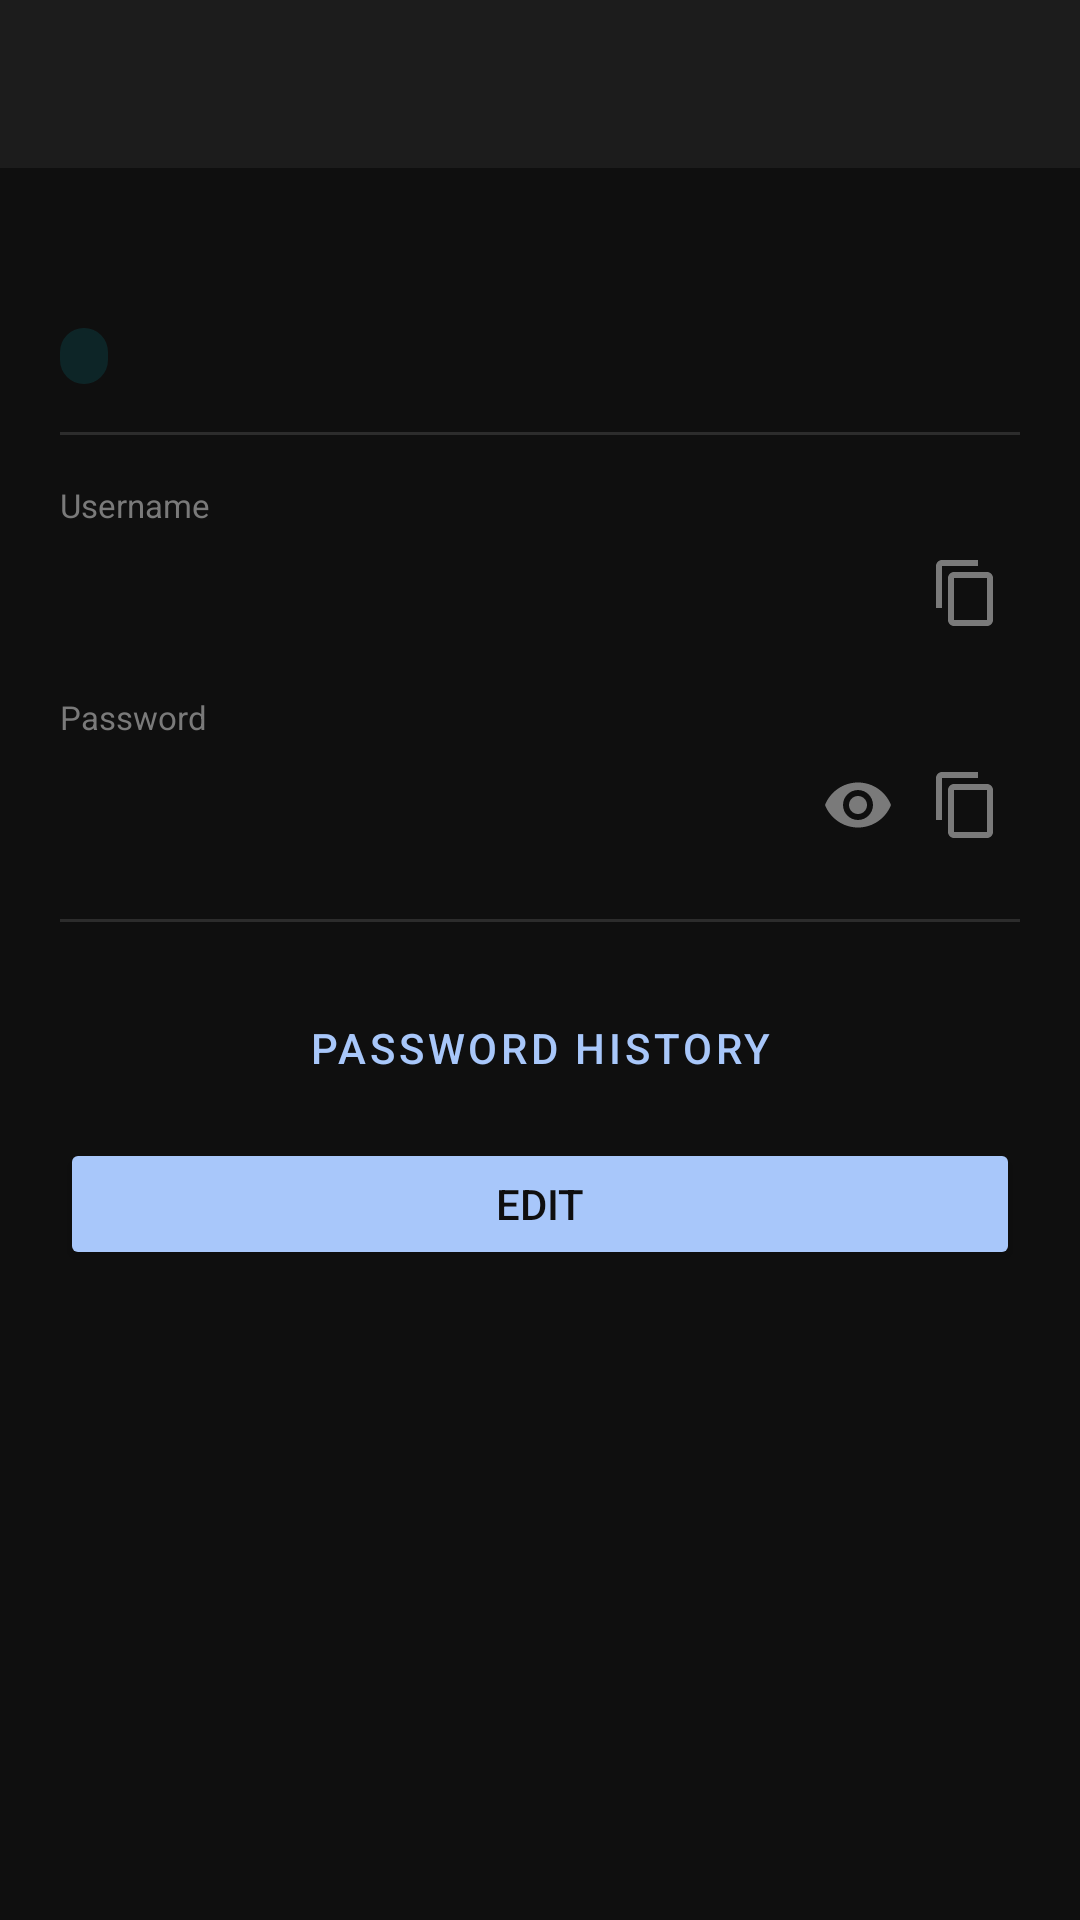

Icons on this 1080x1920 Android screen, each with the point to tap as [x,y]:
Copy password: [964,805]
Copy username: [964,593]
Show/Hide: [858,805]
